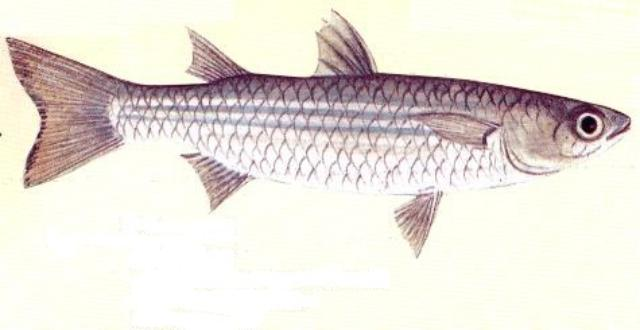Mulut: (601, 102, 639, 152)
Sirip Anal: (178, 140, 254, 222)
Sirip Dada: (410, 100, 502, 164)
Sirip Ekor: (2, 27, 126, 198)
Sirip Perut: (386, 184, 450, 270)
Sirip Punggung: (179, 5, 379, 93)
